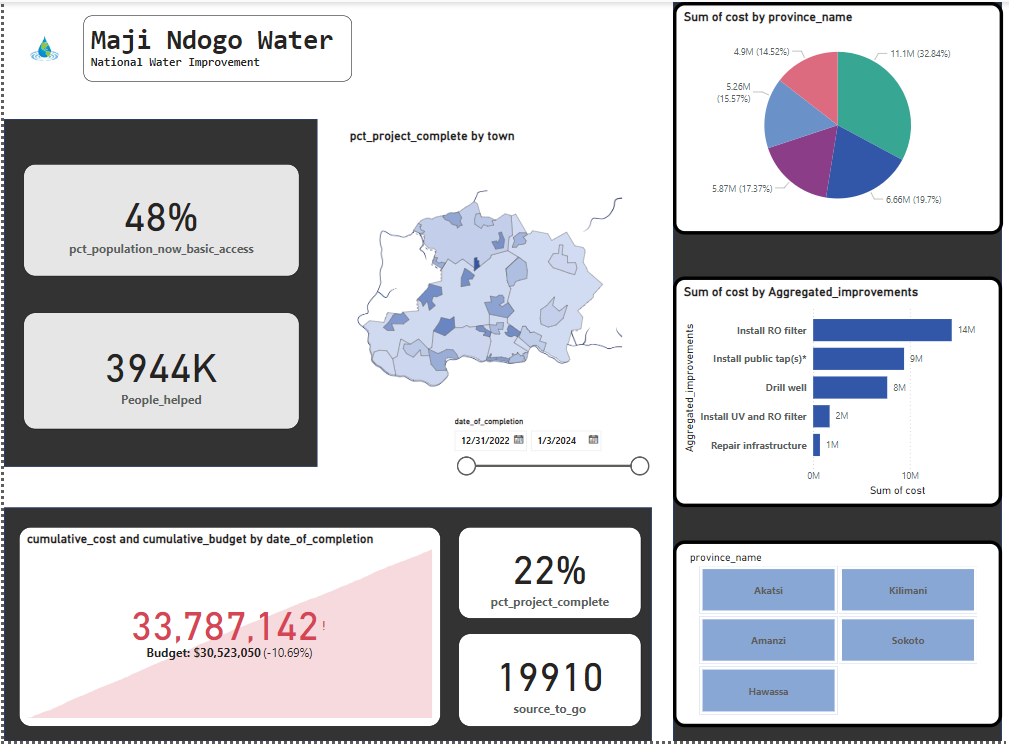

The dashboard page shown, as its layout file describes it:
{"tool":"powerbi","page":{"name":"National","canvas":[1350,1000],"ordinal":0},"visuals":[{"type":"image","box":[478,231,370,296],"z":0},{"type":"shape","box":[20.3,174.6,418.1,454.7],"z":1000},{"type":"shape","box":[20.3,669.8,856.6,330.9],"z":2000},{"type":"shape","box":[891.1,0,458.7,1000.7],"z":3000},{"type":"shapeMap","fields":{"Category":["project_progress.town"],"Value":["project_progress.pct_project_complete"]},"box":[471,188,365,358],"z":4000},{"type":"card","fields":{"Values":["project_progress.pct_project_complete"]},"box":[617.1,708.4,247.6,127.9],"z":5000},{"type":"card","fields":{"Values":["project_progress.source_to_go"]},"box":[615,854.6,247.6,125.8],"z":6000},{"type":"card","fields":{"Values":["water_source.population_now_basic_access"]},"box":[42.6,422.2,373.5,158.3],"z":7000},{"type":"card","fields":{"Values":["water_source.pct_population_now_basic_access"]},"box":[42.6,227.3,373.5,152.2],"z":8000},{"type":"slicer","fields":{"Values":["project_progress.date_of_completion"]},"box":[552.1,546,284.2,99.5],"z":9000},{"type":"kpi","fields":{"Indicator":["project_progress.cumulative_cost"],"TrendLine":["project_progress.date_of_completion"],"Goal":["project_progress.cumulative_budget"]},"box":[32.5,708.4,570.4,272],"z":10000},{"type":"pieChart","fields":{"Y":["Sum(project_progress.cost)"],"Category":["location.province_name"]},"box":[897.2,16.2,446.6,314.6],"z":11000},{"type":"clusteredBarChart","fields":{"Category":["project_progress.Aggregated_improvements"],"Y":["Sum(project_progress.cost)"]},"box":[897.2,367.4,444.5,312.6],"z":12000},{"type":"slicer","fields":{"Values":["location.province_name"]},"box":[905.3,708.4,444.5,272],"z":13000},{"type":"textbox","box":[111.6,16.2,359.3,99.5],"z":14000},{"type":"image","box":[0,16,111.9,99.9],"z":15000}]}

Visuals, with their boxes in screenshot pixels (x1, y1, x2, y2), scaled from the page's 1350x1000 canvas onto the 1009x745 screenshot:
image: crop(357, 172, 634, 393)
shape: crop(15, 130, 328, 469)
shape: crop(15, 499, 655, 744)
shape: crop(666, 0, 1008, 744)
shapeMap - project_progress.town x project_progress.pct_project_complete: crop(352, 140, 625, 407)
card - project_progress.pct_project_complete: crop(461, 528, 646, 623)
card - project_progress.source_to_go: crop(460, 637, 645, 730)
card - water_source.population_now_basic_access: crop(32, 315, 311, 432)
card - water_source.pct_population_now_basic_access: crop(32, 169, 311, 283)
slicer - project_progress.date_of_completion: crop(413, 407, 625, 481)
kpi - project_progress.cumulative_cost x project_progress.date_of_completion: crop(24, 528, 451, 730)
pieChart - Sum(project_progress.cost) x location.province_name: crop(671, 12, 1004, 246)
clusteredBarChart - project_progress.Aggregated_improvements x Sum(project_progress.cost): crop(671, 274, 1003, 507)
slicer - location.province_name: crop(677, 528, 1008, 730)
textbox: crop(83, 12, 352, 86)
image: crop(0, 12, 84, 86)
